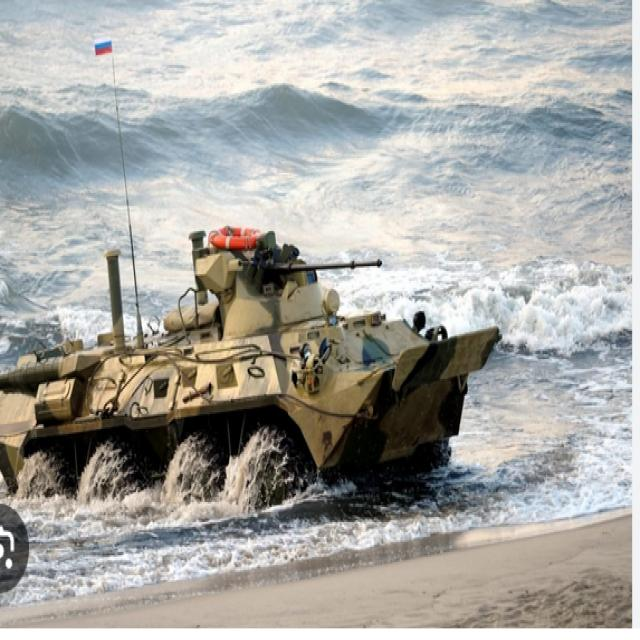MIL_APC: (1, 236, 516, 538)
